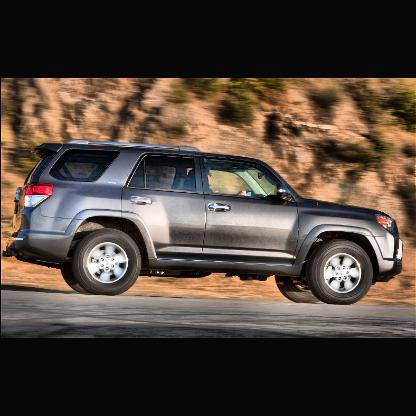Toyota 4Runner SUV 2012: (6, 135, 408, 308)
